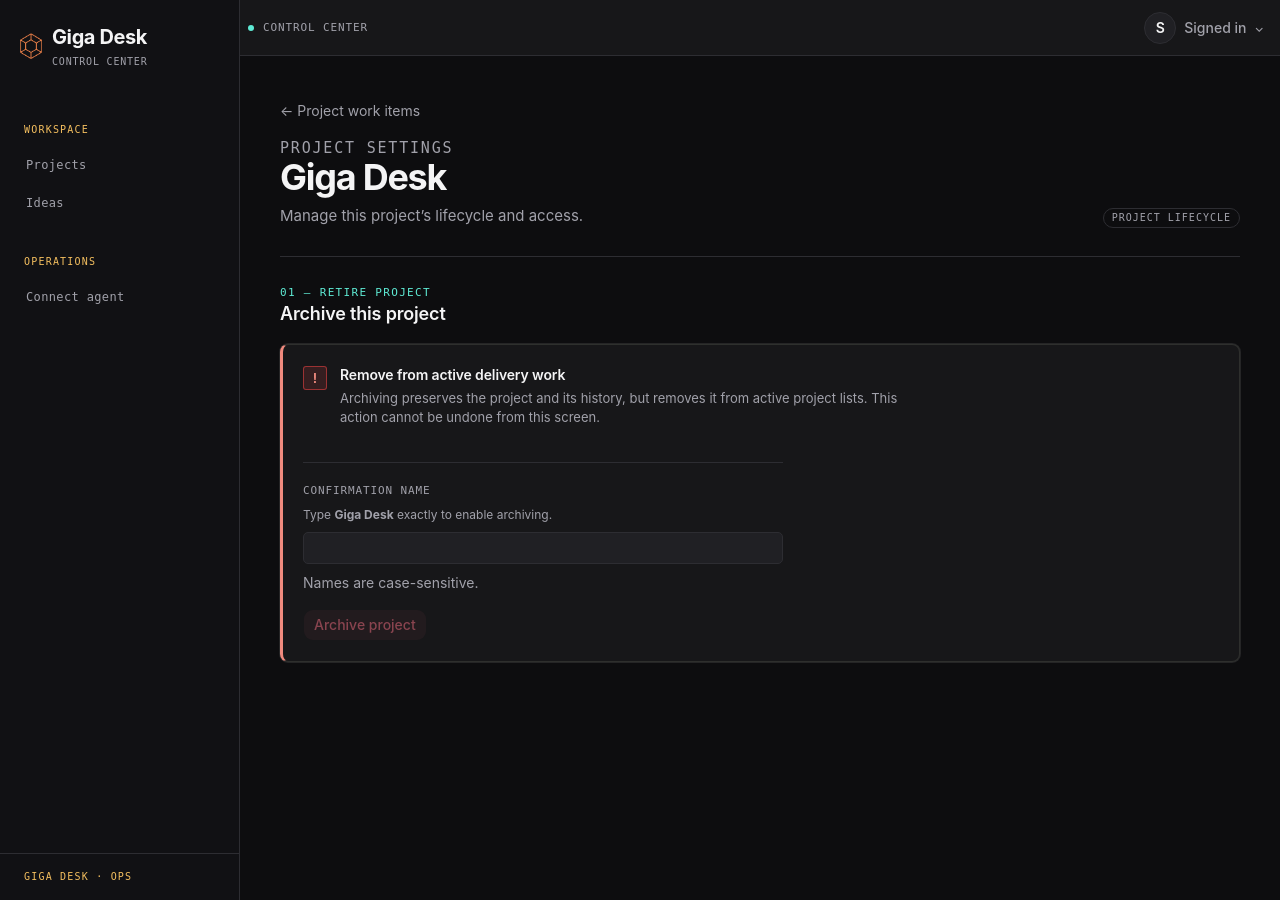
Test case: App › explains when the signed-in user cannot archive a project
This screenshot has width=1280, height=900.
In the field labelled "Confirmation name": (543, 548) [303,532,783,564], type "Giga Desk"
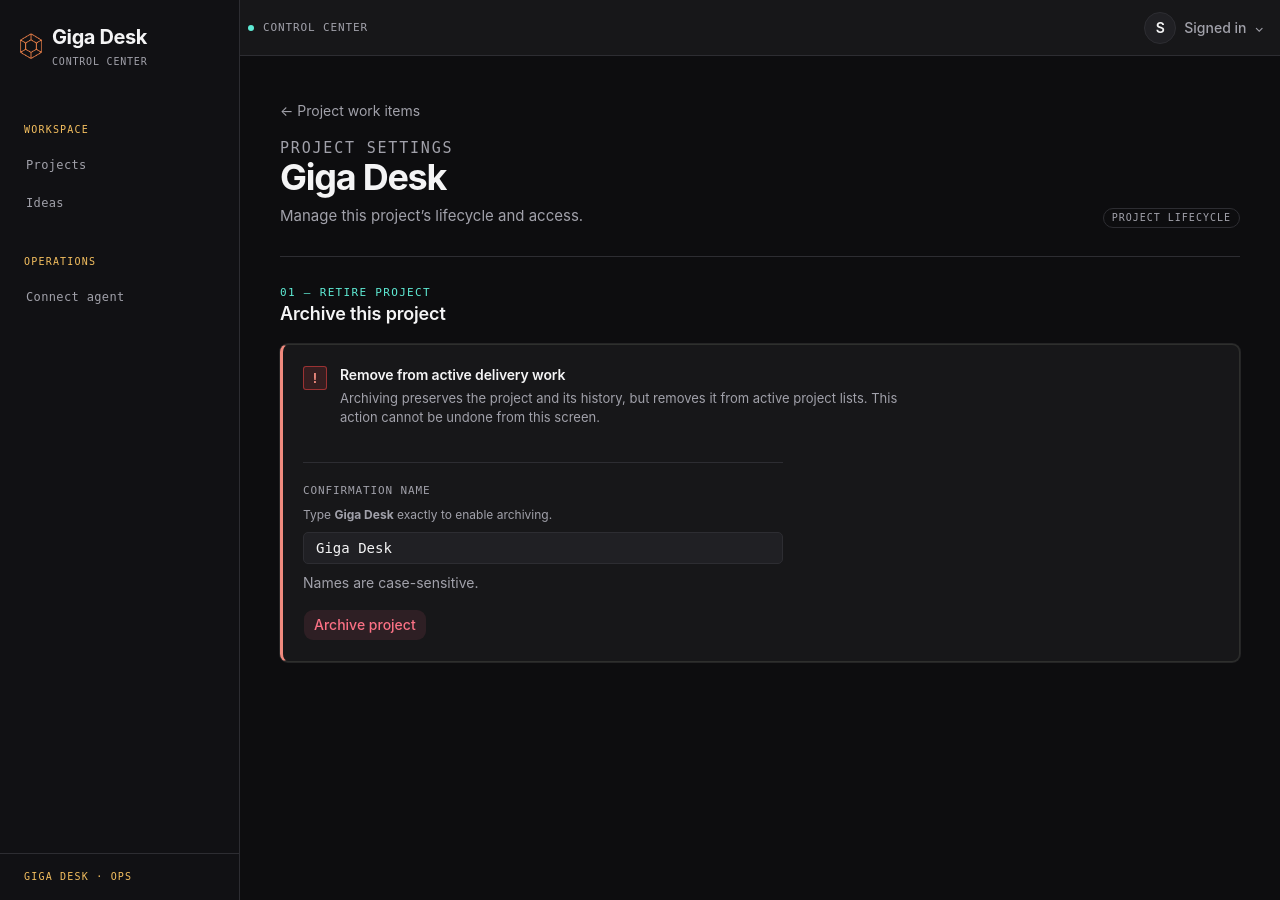
Click the button "Archive project": click(365, 625) [303,609,427,641]
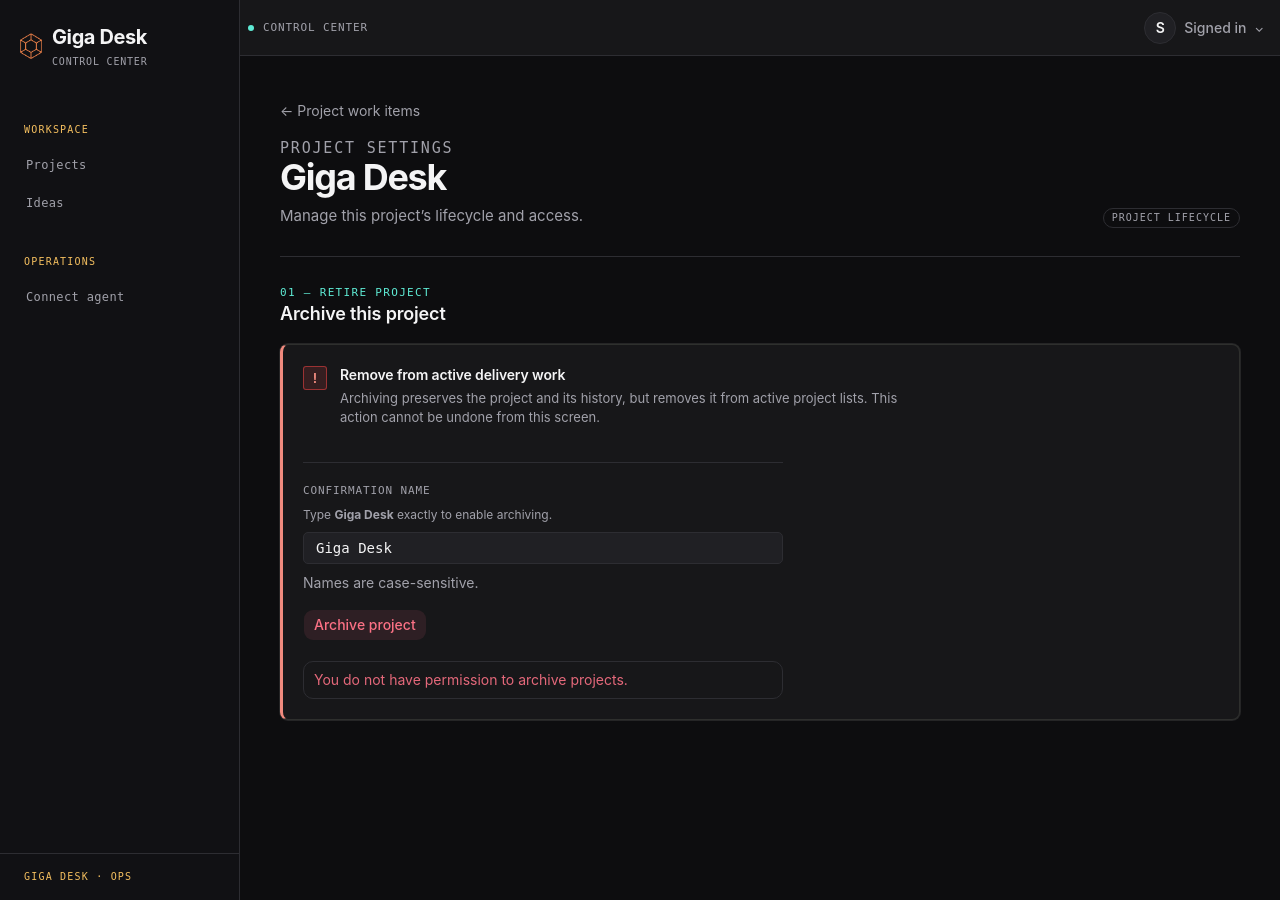
Now the message reads "You do not have permission to archive projects.", box [314,671,628,688]
